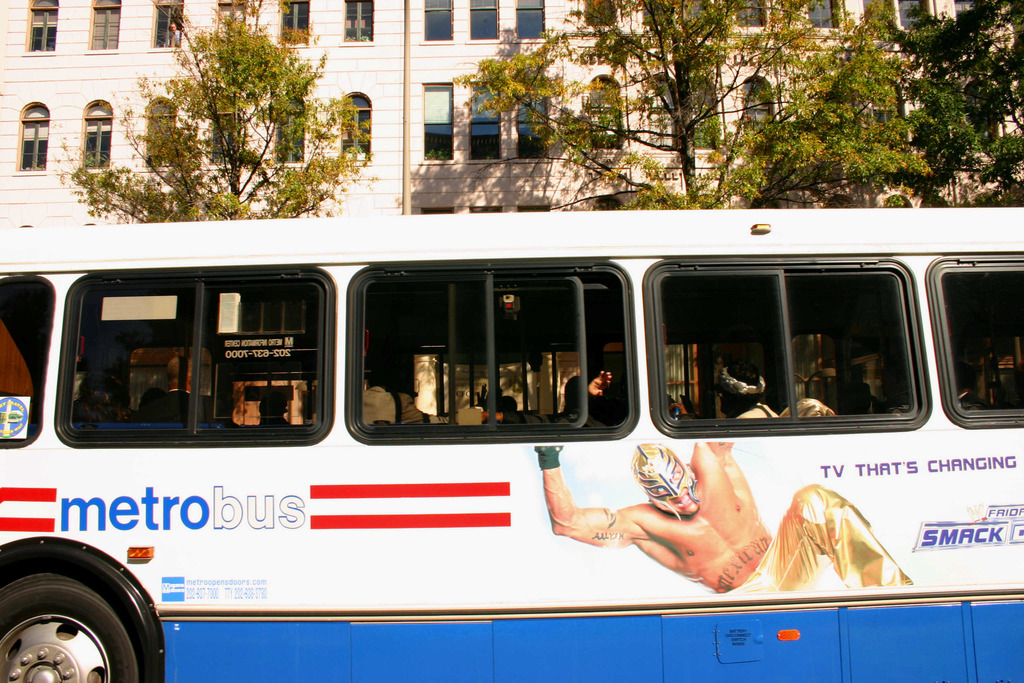Bus: (0, 203, 1023, 682)
